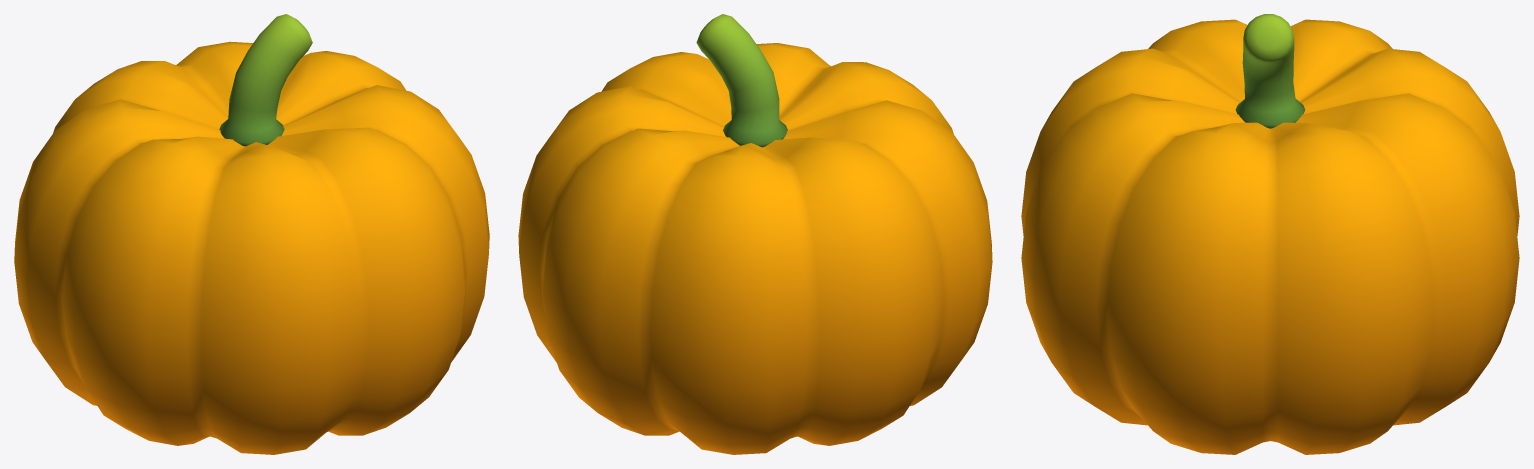
File: Pumpkin.fbx
The picture shows the model from 3 angles, left to right: view 1: azimuth 30°, elevation 25°; view 2: azimuth 150°, elevation 25°; view 3: azimuth 270°, elevation 25°; orthographic projection. The views are drawn at different scales.
Visible parts, largest first — view 1: Pumpkin; view 2: Pumpkin; view 3: Pumpkin.
Part boxes in pixels (box(x1,y1,x2,y2)): Pumpkin: box(14, 14, 489, 454); Pumpkin: box(518, 14, 992, 454); Pumpkin: box(1021, 14, 1519, 454).
Size of the model in its own units: 24.18 by 21.42 by 24.18.
